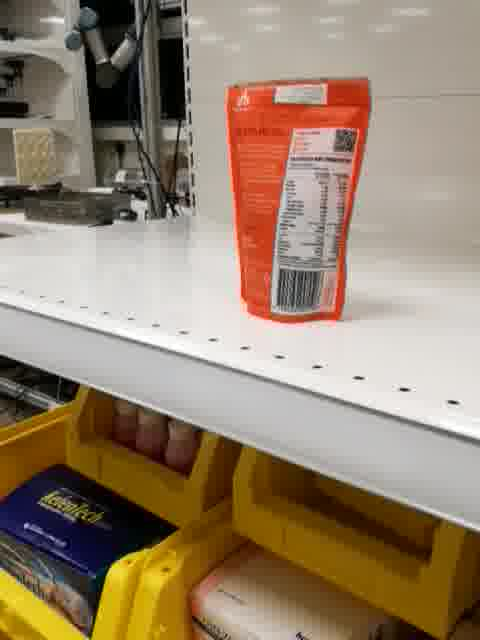whitechia: (222, 75, 372, 324)
